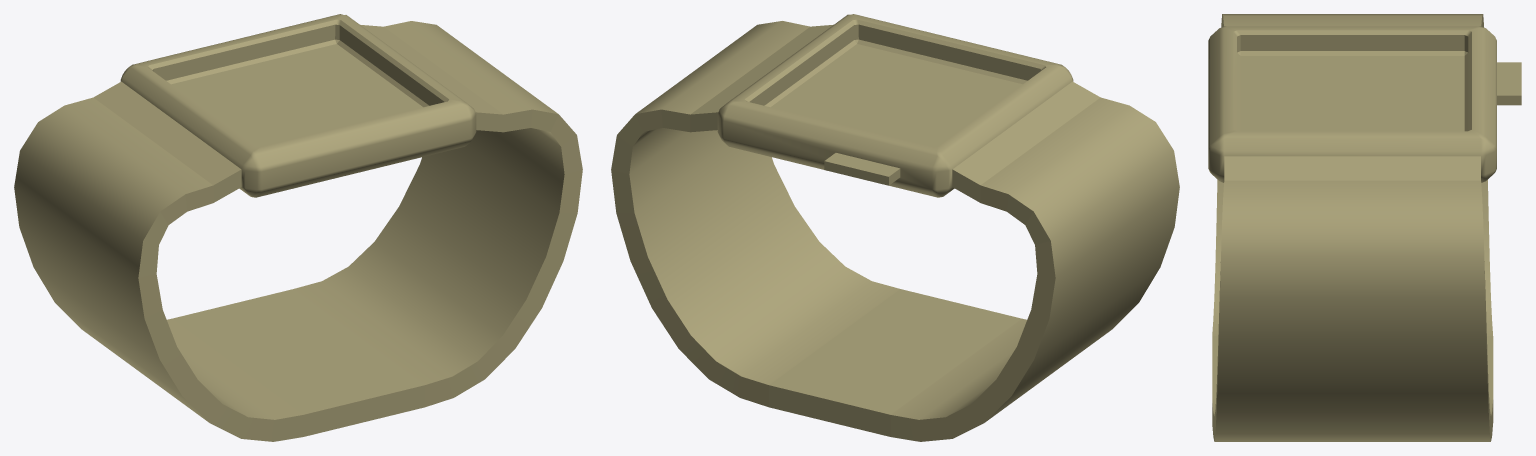
Rendered from reloj.fbx.
The picture shows the model from 3 angles, left to right: view 1: azimuth 30°, elevation 25°; view 2: azimuth 150°, elevation 25°; view 3: azimuth 270°, elevation 25°; orthographic projection. The views are drawn at different scales.
Visible parts, largest first — view 1: pCube3; view 2: pCube3; view 3: pCube3.
Part boxes in pixels (x1=…): pCube3: x1=14, y1=14, x2=582, y2=441; pCube3: x1=611, y1=14, x2=1179, y2=441; pCube3: x1=1208, y1=14, x2=1521, y2=441.
Bounding box in the file's own units: 31.79 × 19.87 × 18.17.
